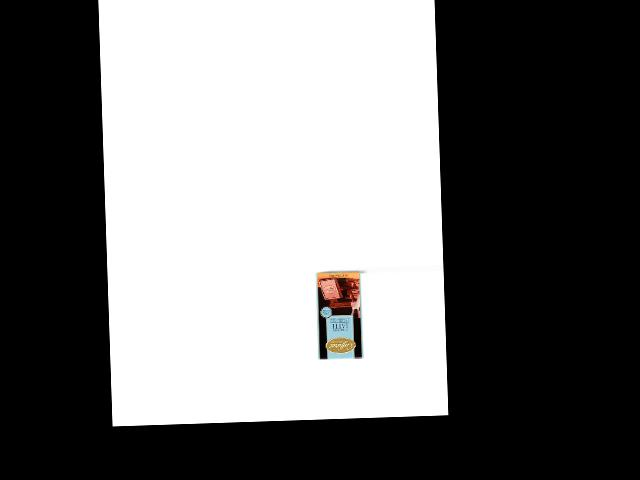chocolate: (314, 270, 365, 360)
